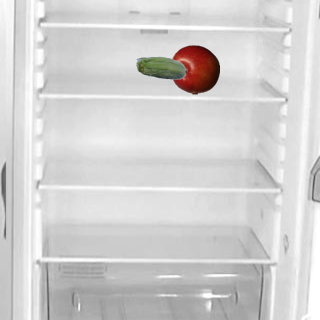Apple Braeburn: (169, 44, 219, 94)
Corn Husk: (135, 44, 185, 94)
